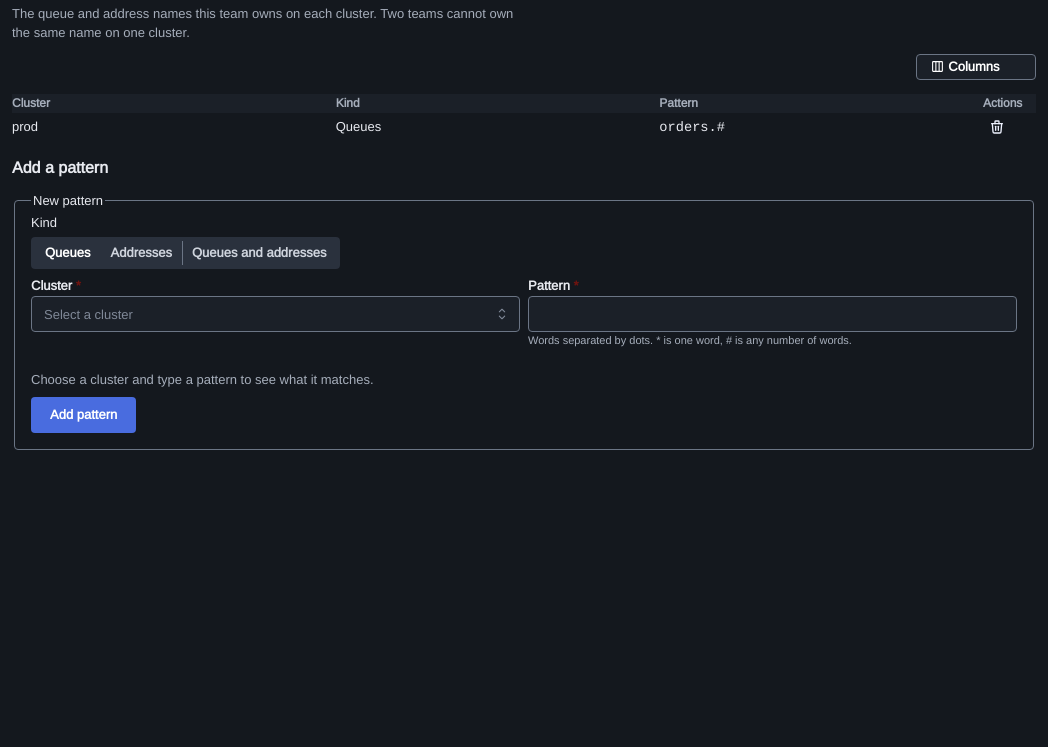
Test: TeamPatterns preview › names a malformed pattern at once, without asking the server about it
Click the dropdown labelled "Cluster *" at (276, 314), box [31,296,520,332]
(page scrolled)
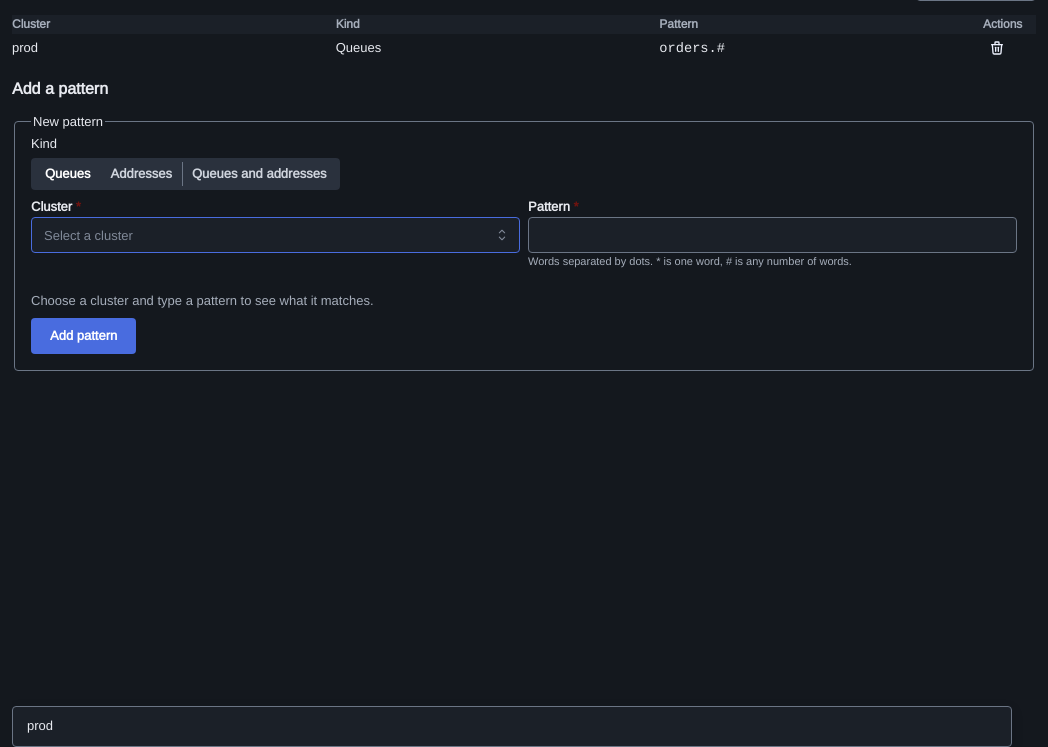
Click the option "prod" at (40, 726), box [27,717,53,734]
(page scrolled)
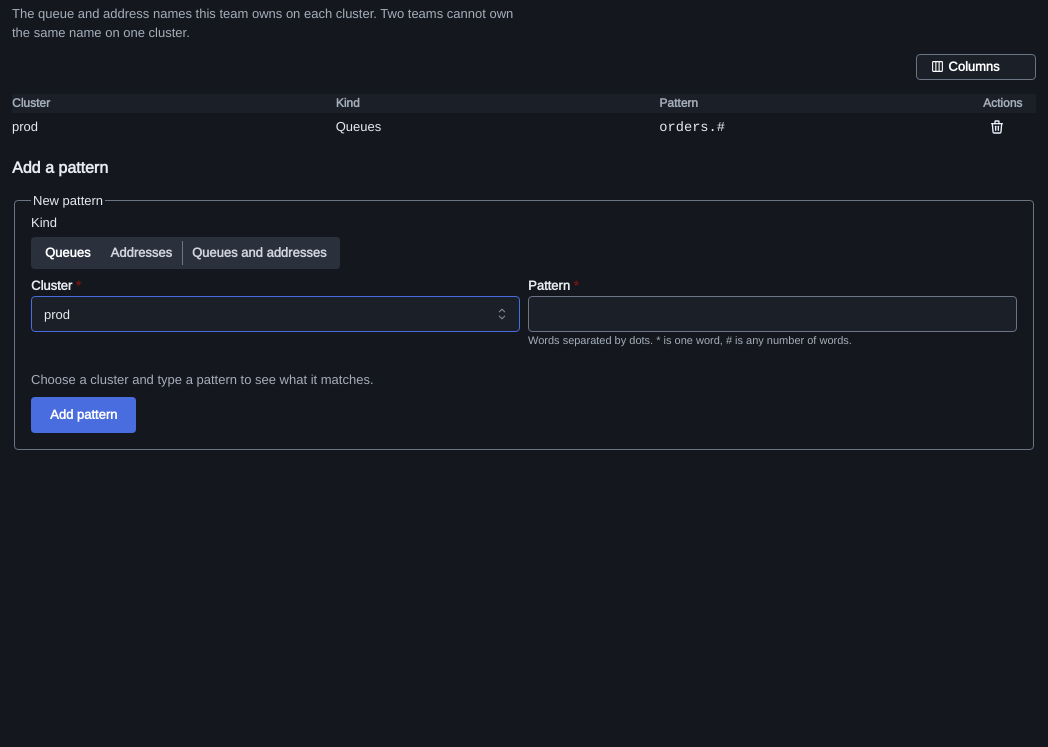
Type "orders..in" into the field labelled "Pattern *" at (772, 314), box [528,296,1017,332]
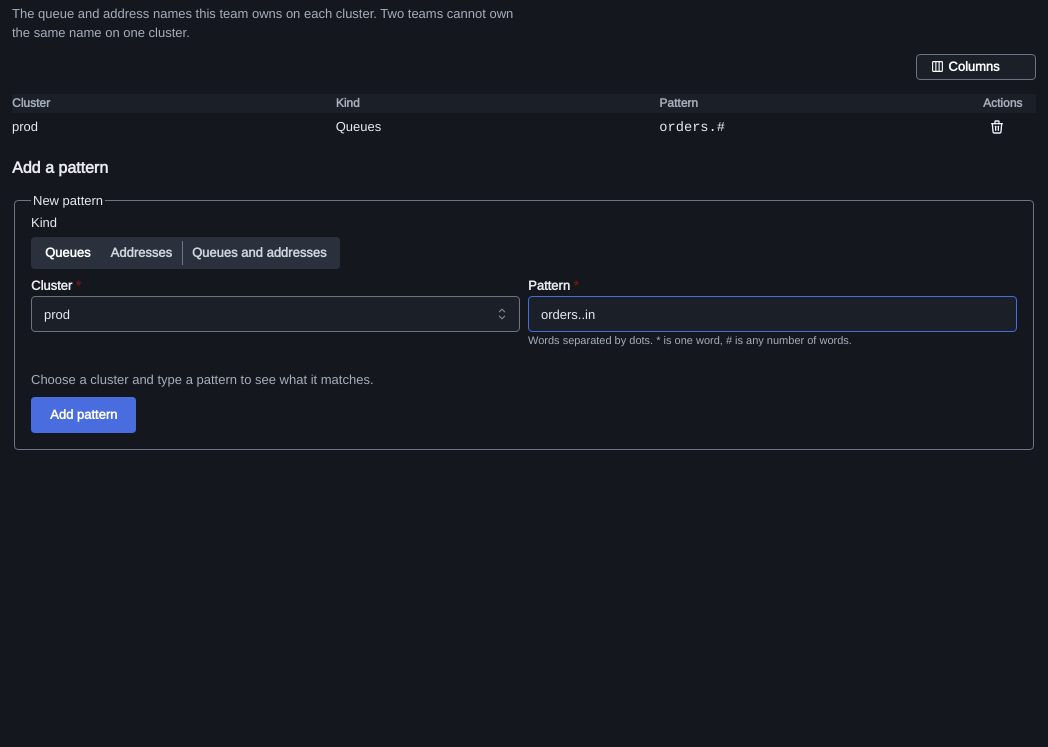
Press Tab
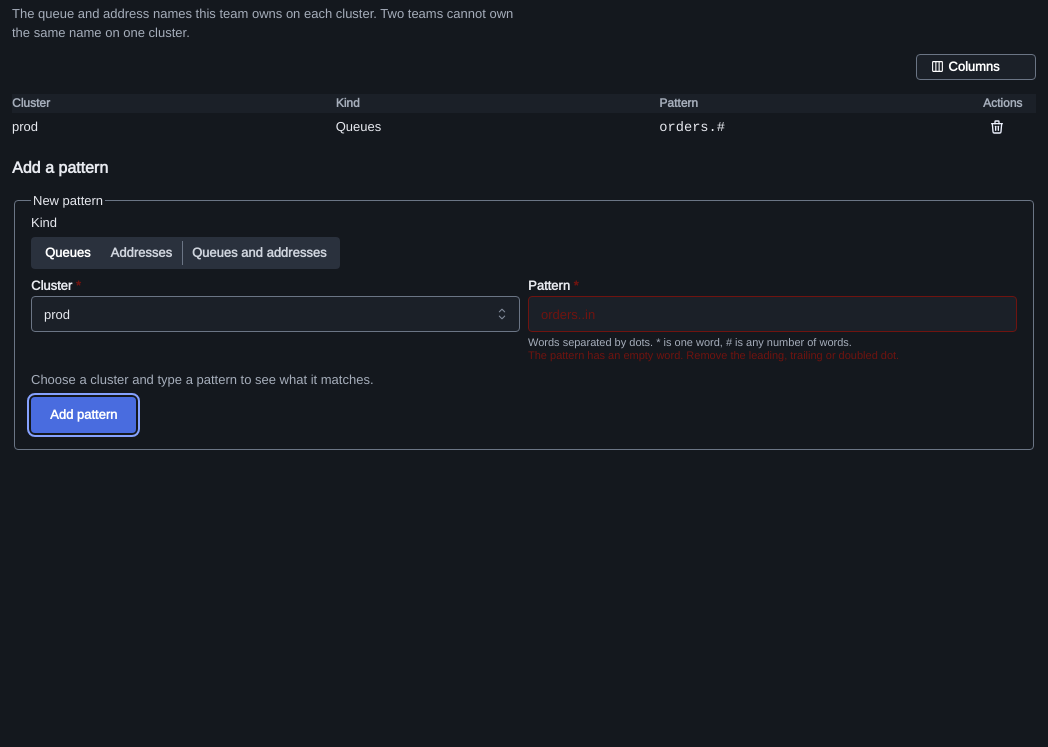
Now the text "The pattern has an empty word" is shown, box [528,348,899,362]
